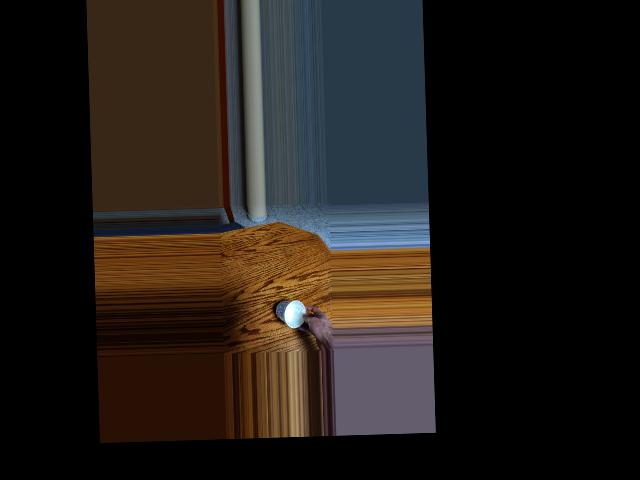cotage: (276, 301, 308, 326)
